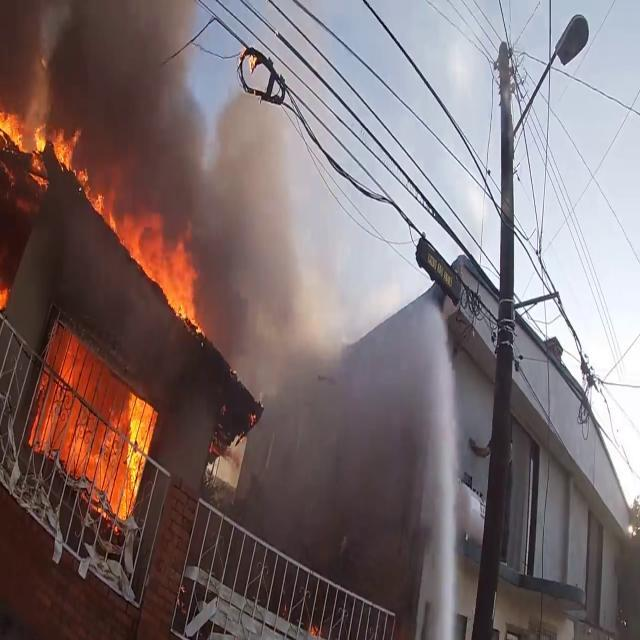Fire: (30, 322, 160, 520), (133, 212, 203, 332), (58, 120, 122, 242), (0, 86, 56, 174)
Smoke: (4, 0, 307, 300), (212, 276, 442, 578)
